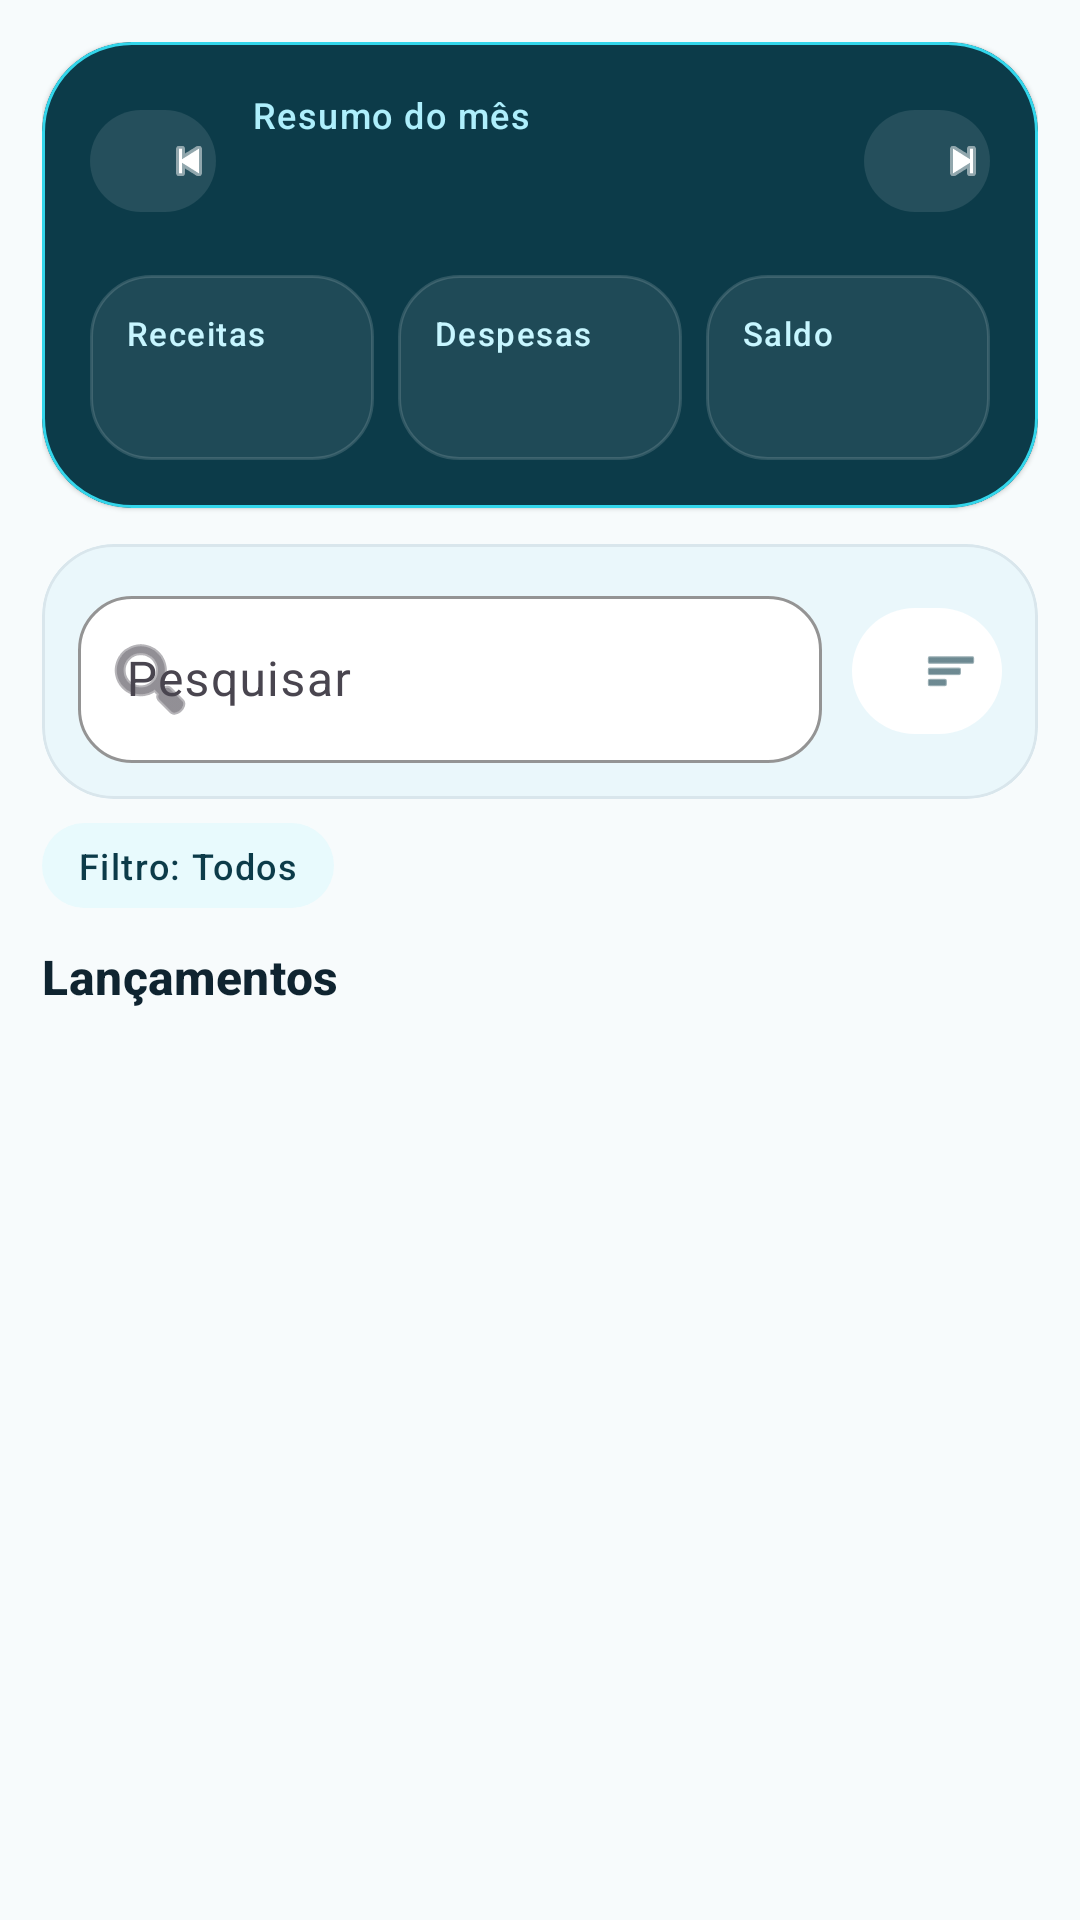

Screen size 1080x1920. Icon name, then its box in pixels as (x1, y1, x2, y2):
Filtros: (928, 656, 974, 686)
next: (865, 110, 989, 212)
previous: (91, 110, 215, 212)
